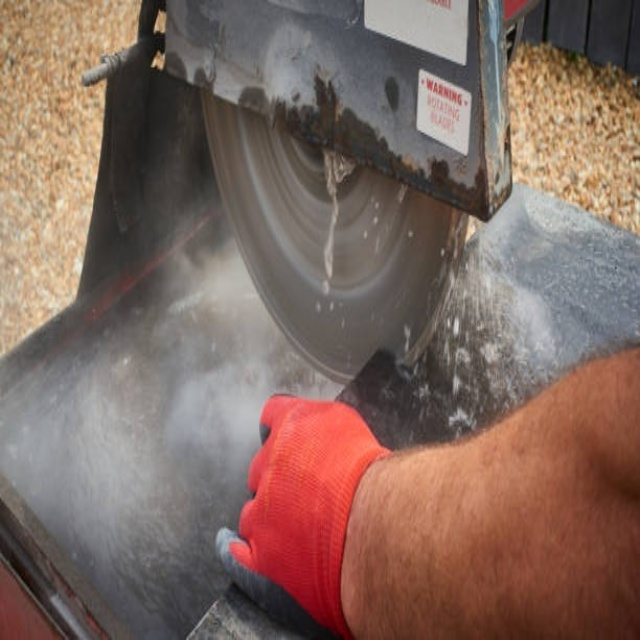Guantes: (221, 391, 391, 640)
